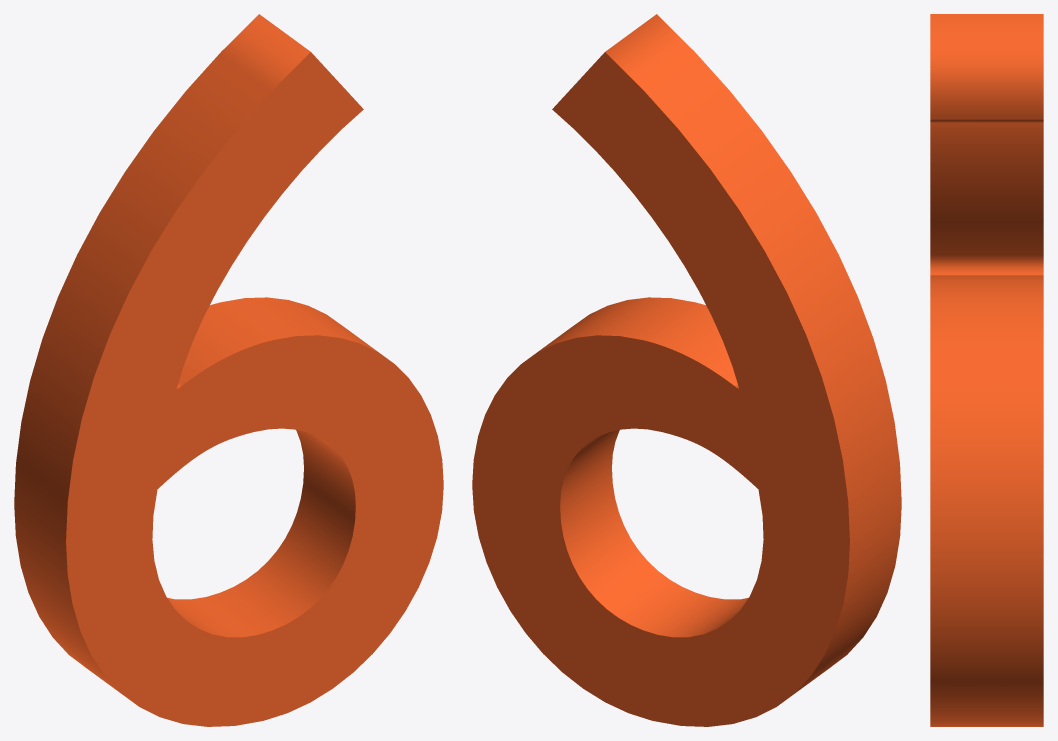
Rendered from Pyroflora.glb.
The picture shows the model from 3 angles, left to right: view 1: azimuth 30°, elevation 25°; view 2: azimuth 150°, elevation 25°; view 3: azimuth 270°, elevation 25°; orthographic projection. The views are drawn at different scales.
Visible parts, largest first — view 1: 6; view 2: 6; view 3: 6.
Part boxes in pixels (box(x1,y1,x2,y2)): 6: box(14, 14, 443, 726); 6: box(472, 14, 901, 726); 6: box(930, 14, 1043, 726).
Size of the model in its own units: 0.421 by 0.7 by 0.1.
